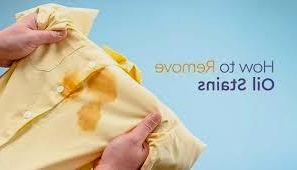oil: (75, 69, 121, 129), (62, 74, 85, 99)
